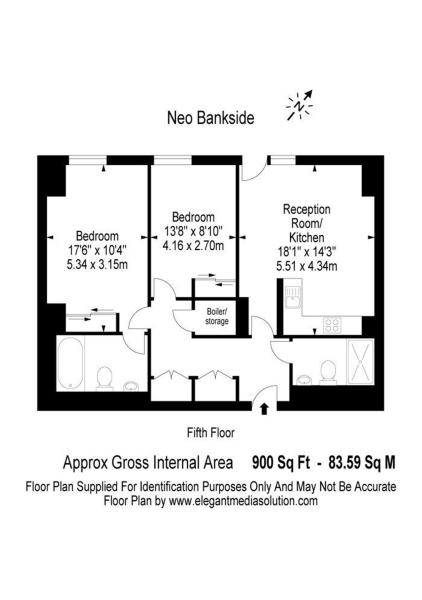GrossArea: (60, 441, 404, 476)
